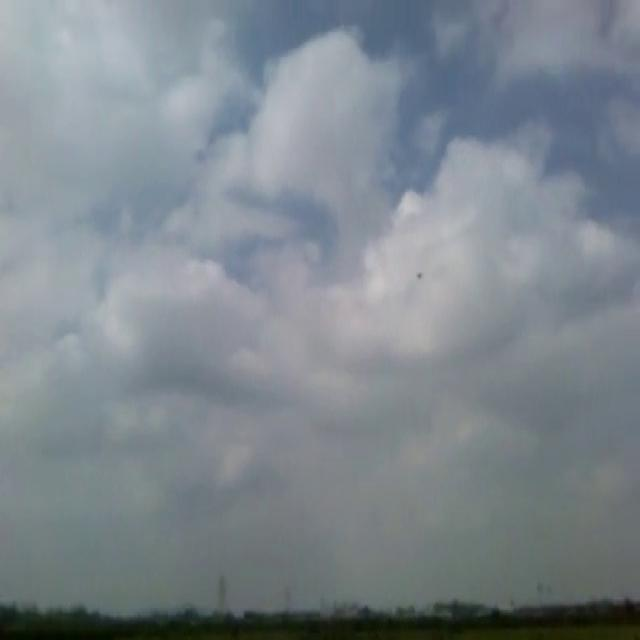drone: (412, 265, 424, 283)
